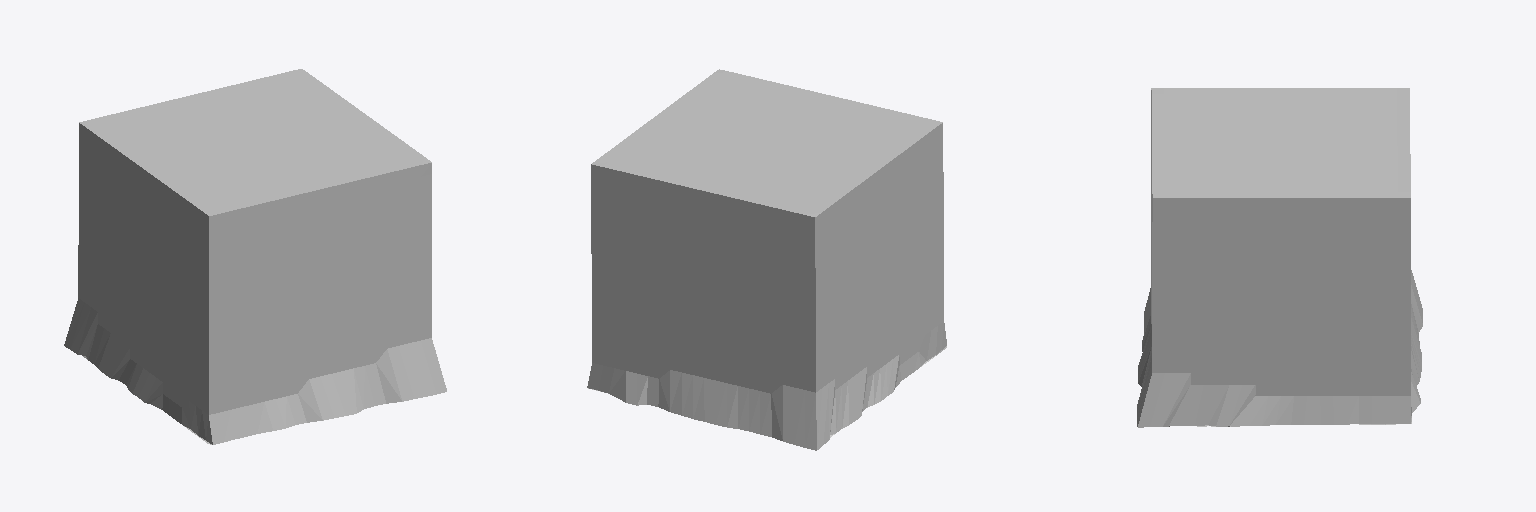
Rendered from mod0126.obj.
3 views of the same model, side by side, from view 1: azimuth 30°, elevation 25°; view 2: azimuth 150°, elevation 25°; view 3: azimuth 270°, elevation 25° (orthographic).
Visible parts, largest first — view 1: Box001; view 2: Box001; view 3: Box001.
Part boxes in pixels (bbox=[...]): Box001: bbox=[64, 69, 446, 444]; Box001: bbox=[587, 69, 946, 450]; Box001: bbox=[1137, 88, 1422, 427].
Size of the model in its own units: 0.5799 by 0.5234 by 0.5979.